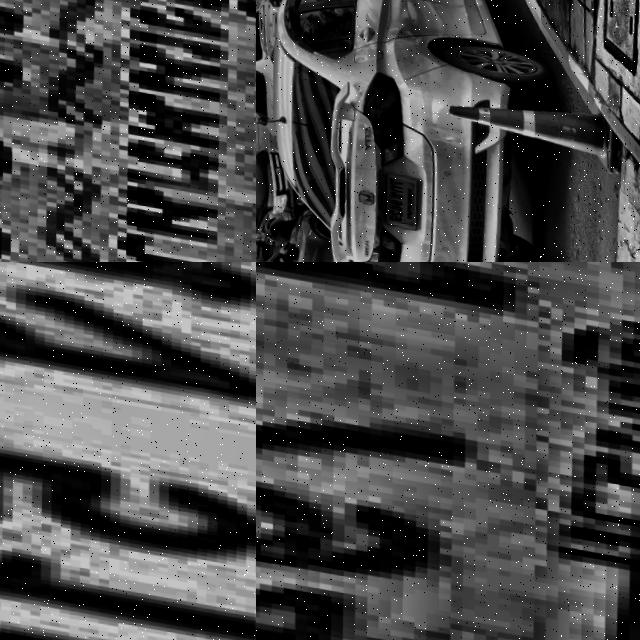license-plate: (256, 262, 640, 640), (0, 262, 256, 640), (0, 0, 256, 262), (364, 164, 423, 230)
